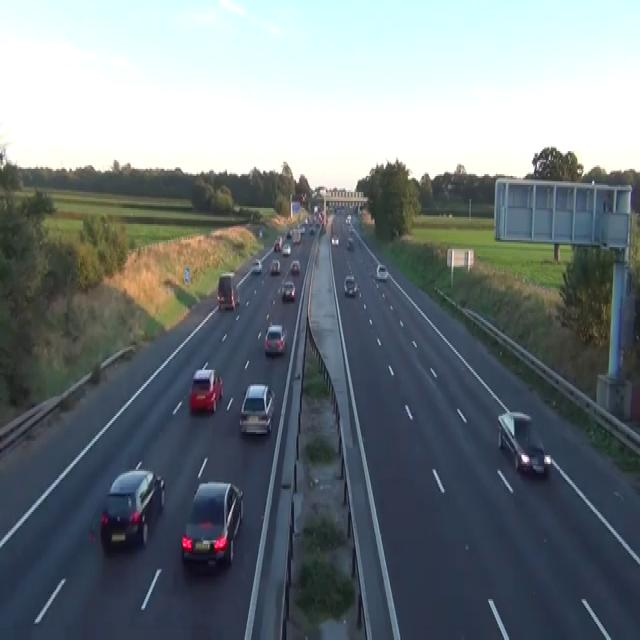Car: (100, 461, 165, 551), (180, 480, 243, 567), (497, 411, 551, 478), (239, 382, 275, 436), (189, 368, 223, 412), (264, 324, 286, 356), (217, 288, 234, 309), (280, 279, 295, 301), (343, 274, 357, 295), (376, 263, 387, 281), (269, 258, 280, 274), (251, 258, 262, 274), (290, 260, 300, 274), (233, 286, 240, 306), (282, 242, 291, 256), (273, 237, 282, 250), (347, 236, 354, 249), (331, 235, 339, 245), (328, 202, 335, 212), (345, 213, 351, 224), (298, 224, 305, 233), (318, 212, 323, 224), (348, 224, 353, 235), (286, 230, 292, 238), (309, 226, 315, 234), (314, 218, 320, 226), (322, 224, 326, 233), (258, 228, 262, 236), (305, 215, 309, 222)
Truck: (217, 272, 239, 309)
